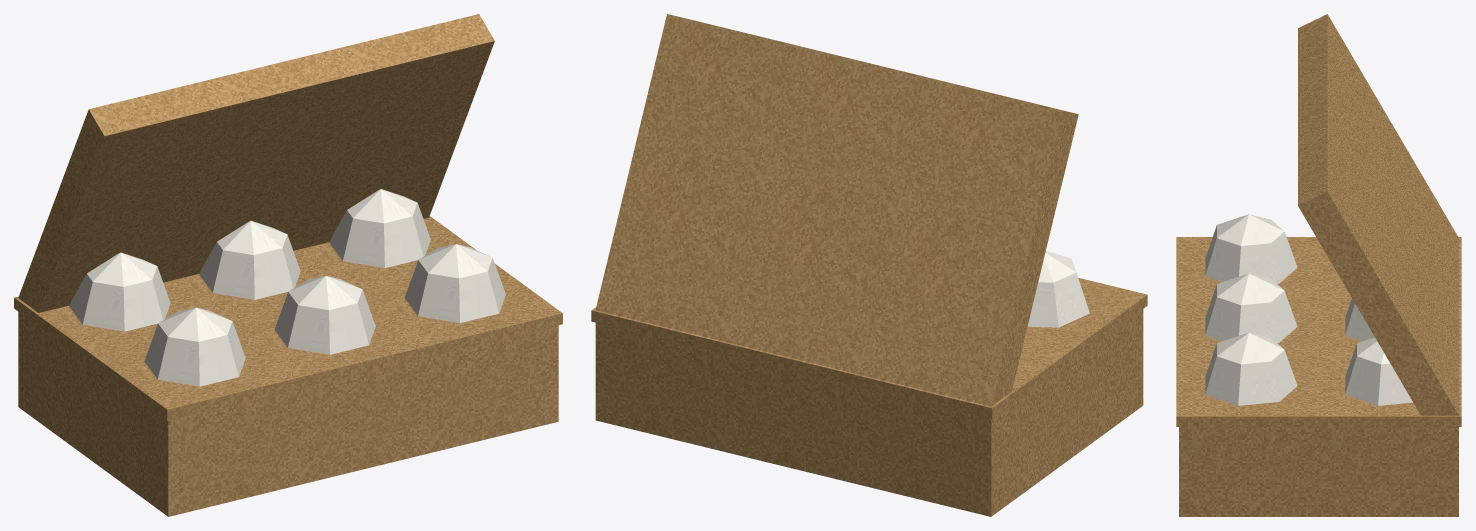
3 views of the same model, side by side, from view 1: azimuth 30°, elevation 25°; view 2: azimuth 150°, elevation 25°; view 3: azimuth 270°, elevation 25° (orthographic). The views are drawn at different scales.
Parts seen in each view (by area): view 1: egg_carton; view 2: egg_carton; view 3: egg_carton.
Boxes of the visible parts, x1,y1,x2,y2 form: egg_carton: (14, 14, 562, 516); egg_carton: (591, 14, 1147, 516); egg_carton: (1176, 14, 1461, 516).
Size of the model in its own units: 0.152 by 0.1283 by 0.102.
Materials: 2 (2 with a texture image).
